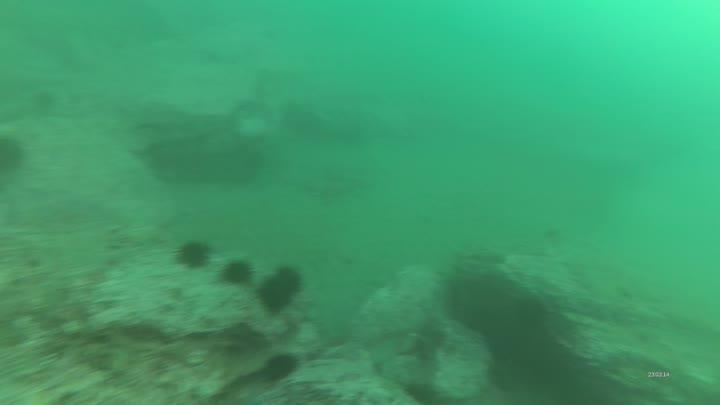urchin: (257, 273, 292, 316), (260, 349, 296, 382), (173, 237, 210, 269), (218, 253, 253, 284), (274, 262, 304, 291)
